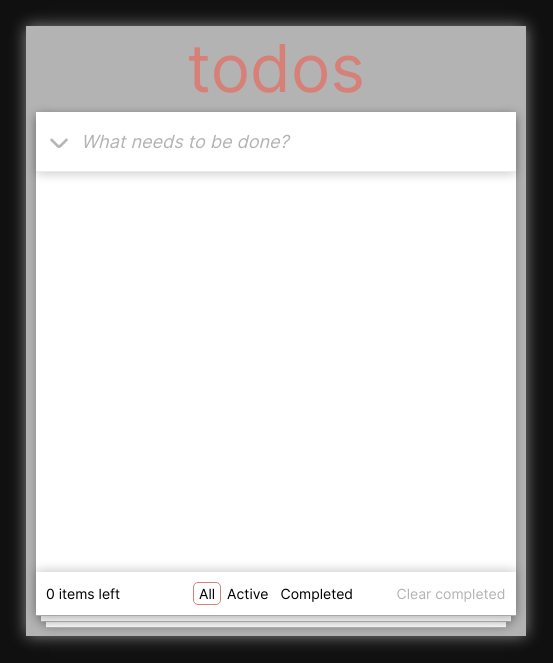
Test: TodoList › добавить новую задачу
In the field with test id "todo-form-input": (298, 142) [81, 112, 516, 171], type "Задача-1"
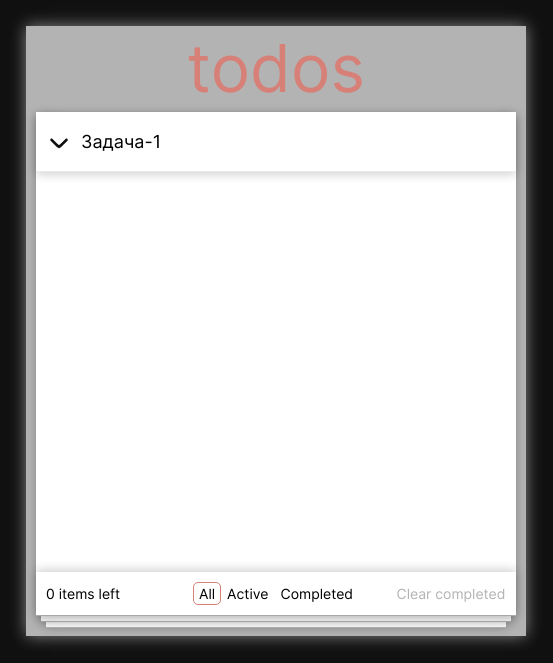
Click the button with test id "todo-submit-btn": (58, 142) [36, 112, 81, 171]
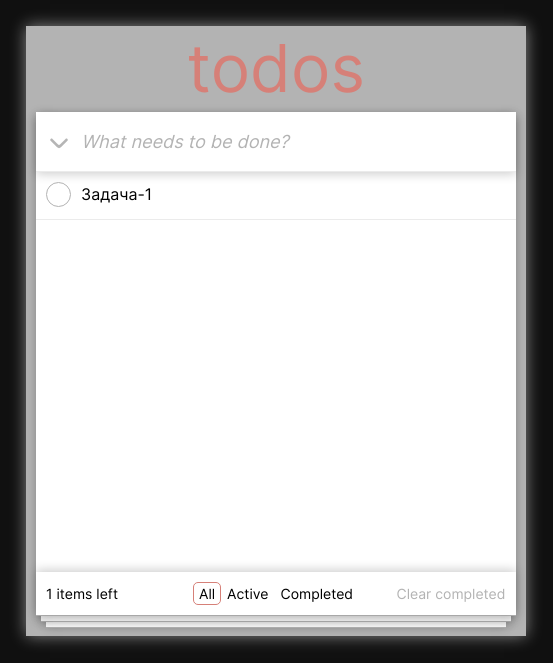
In the field with test id "todo-form-input": (298, 142) [81, 112, 516, 171], type "Задача-2"
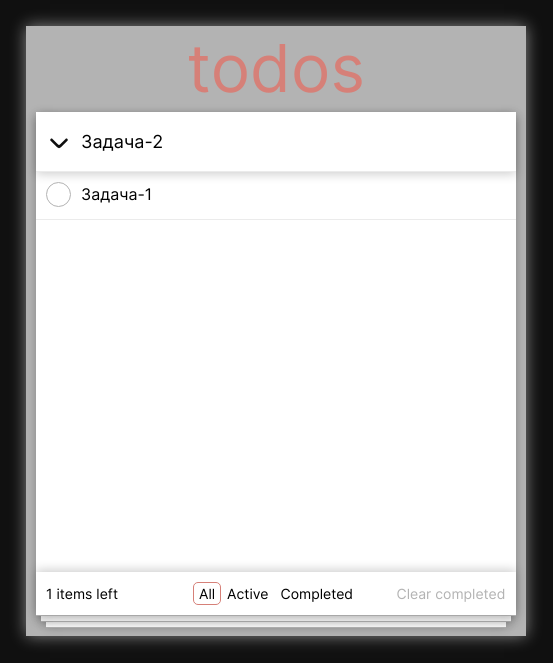
Click the button with test id "todo-submit-btn": (58, 142) [36, 112, 81, 171]
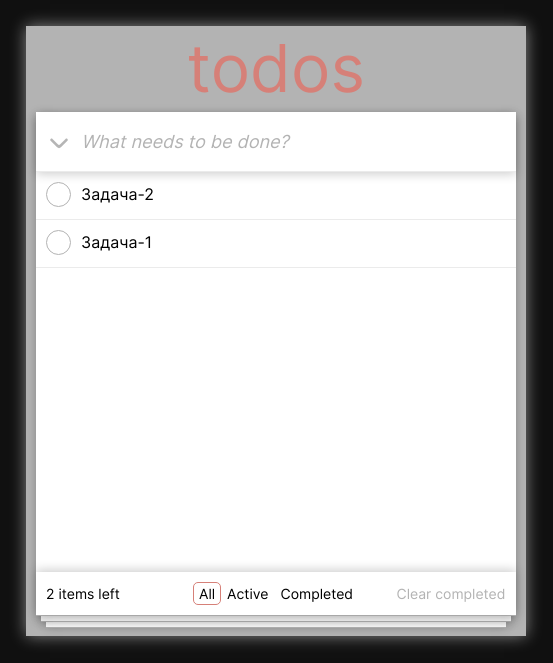
Expected: the icon with test id "Задача-2" is shown, [46, 182, 71, 207]
Result: the icon with test id "Задача-1" is shown at [46, 230, 71, 255]
